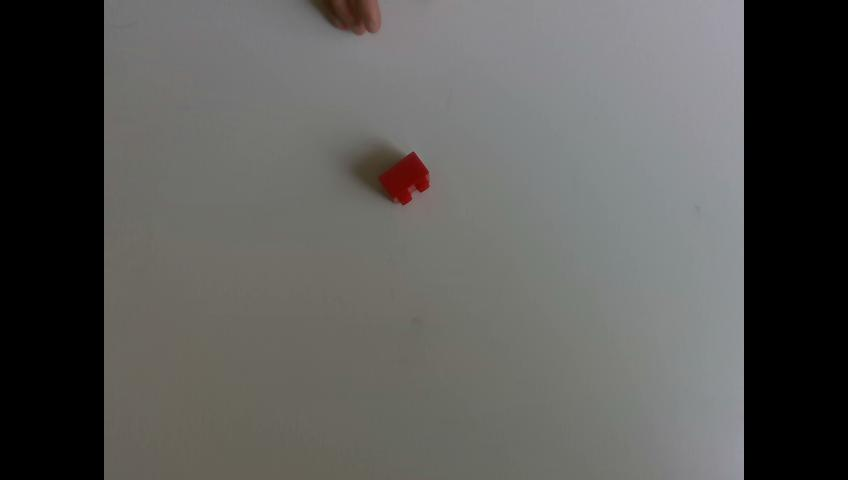2x2_red: (380, 150, 430, 204)
